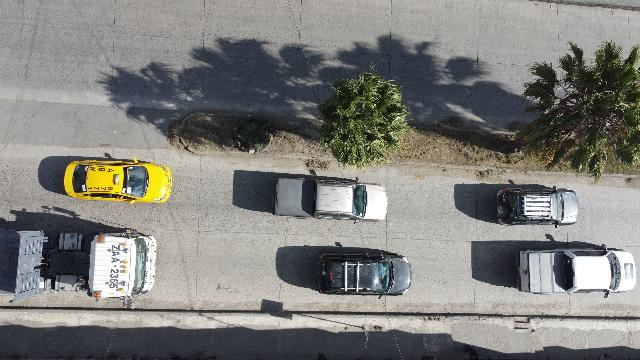Vehiculo: (516, 244, 636, 296), (272, 176, 388, 222), (64, 158, 172, 204), (316, 252, 412, 296), (497, 185, 579, 226)
